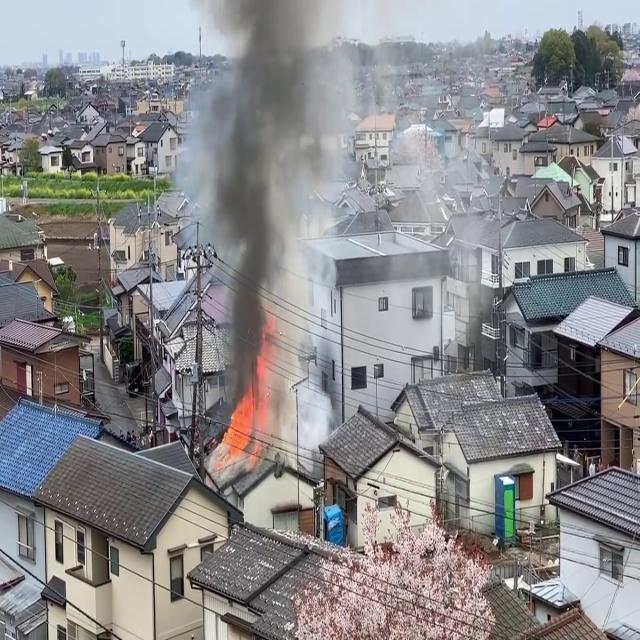Fire: (213, 386, 262, 472)
Smoke: (203, 1, 347, 450)
